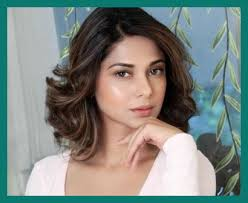indian_female: (87, 1, 181, 132)
